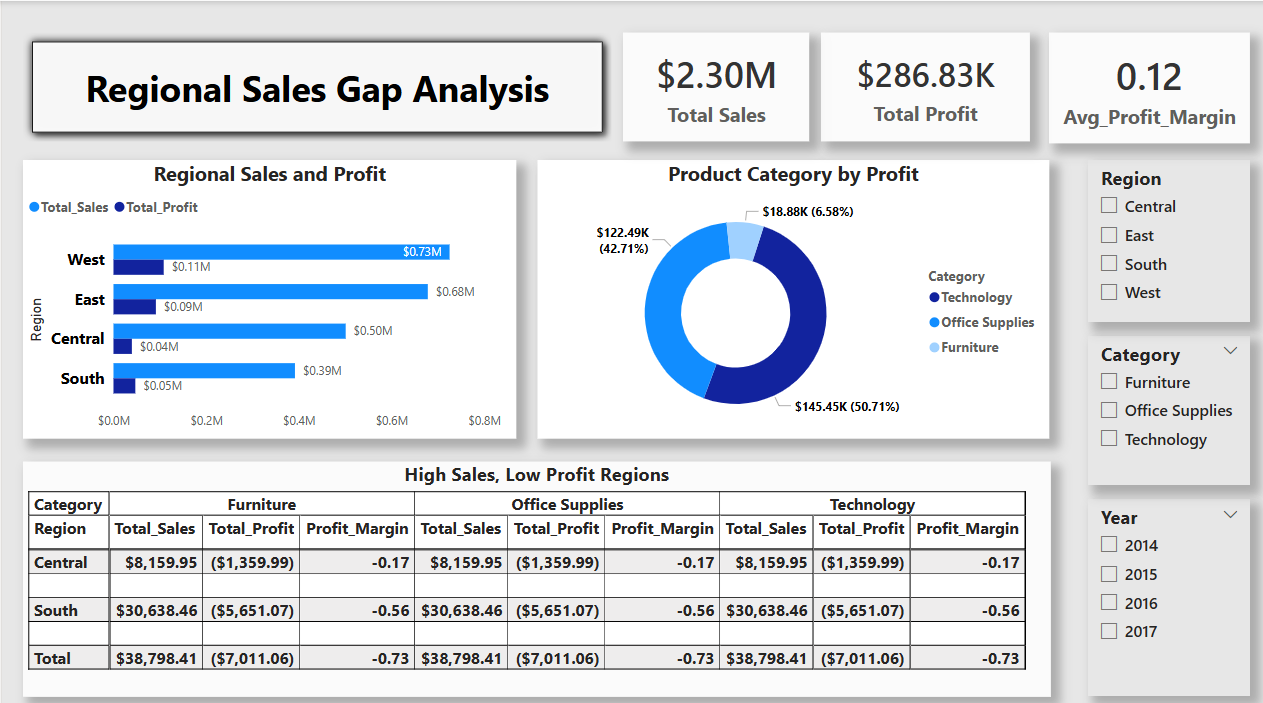

Layout of this report page (visuals, bound fields, positions):
{"tool":"powerbi","page":{"name":"Dashboard","canvas":[1280,720],"ordinal":0},"visuals":[{"type":"clusteredBarChart","title":" Regional Sales and Profit","fields":{"Category":["RegionalCategorySales.Region"],"Y":["Sum(RegionalCategorySales.Total_Sales)","Sum(RegionalCategorySales.Total_Profit)"]},"box":[21.2,160.5,498.2,281.6],"z":0},{"type":"pivotTable","title":"High Sales, Low Profit Regions","fields":{"Rows":["HighSalesLowProfitRegion.Region"],"Values":["Sum(HighSalesLowProfitRegion.Total_Sales)","Sum(HighSalesLowProfitRegion.Total_Profit)","Sum(HighSalesLowProfitRegion.Profit_Margin)"],"Columns":["RegionalCategorySales.Category"]},"box":[20.7,464.5,1037.1,237],"z":1000},{"type":"donutChart","title":"Product Category by Profit","fields":{"Category":["RegionalCategorySales.Category"],"Y":["Sum(RegionalCategorySales.Total_Profit)"]},"box":[540.6,160.5,516.3,281.6],"z":2000},{"type":"slicer","fields":{"Values":["RegionalCategorySales.Region"]},"box":[1096.3,160.5,163.5,163.5],"z":3000},{"type":"slicer","fields":{"Values":["HighSellingLowProfitMaginProducts.Category"]},"box":[1095.9,337.2,163.8,151.1],"z":4000},{"type":"slicer","fields":{"Values":["RegionalCategorySales.Year"]},"box":[1095.9,502.6,163.8,198.8],"z":5000},{"type":"card","fields":{"Values":["MeasureTable.Total Sales"]},"box":[626.6,32.4,187.8,110.1],"z":6000},{"type":"card","fields":{"Values":["MeasureTable.Total Profit"]},"box":[827.4,32.4,210.5,110.1],"z":7000},{"type":"card","title":"Avg Profit Margin","fields":{"Values":["MeasureTable.Avg_Profit_Margin"]},"box":[1057.4,32.4,202.4,111.7],"z":8000},{"type":"shape","box":[21,32.4,594.3,110.1],"z":9000}]}

Visuals, with their boxes in screenshot pixels (x1, y1, x2, y2), scaled from the page's 1280x720 canvas onto the 1263x703 screenshot:
" Regional Sales and Profit" clusteredBarChart: <box>21,157,513,432</box>
"High Sales, Low Profit Regions" pivotTable: <box>20,454,1044,685</box>
"Product Category by Profit" donutChart: <box>533,157,1043,432</box>
slicer - RegionalCategorySales.Region: <box>1082,157,1243,316</box>
slicer - HighSellingLowProfitMaginProducts.Category: <box>1081,329,1243,477</box>
slicer - RegionalCategorySales.Year: <box>1081,491,1243,685</box>
card - MeasureTable.Total Sales: <box>618,32,804,139</box>
card - MeasureTable.Total Profit: <box>816,32,1024,139</box>
"Avg Profit Margin" card: <box>1043,32,1243,141</box>
shape: <box>21,32,607,139</box>
